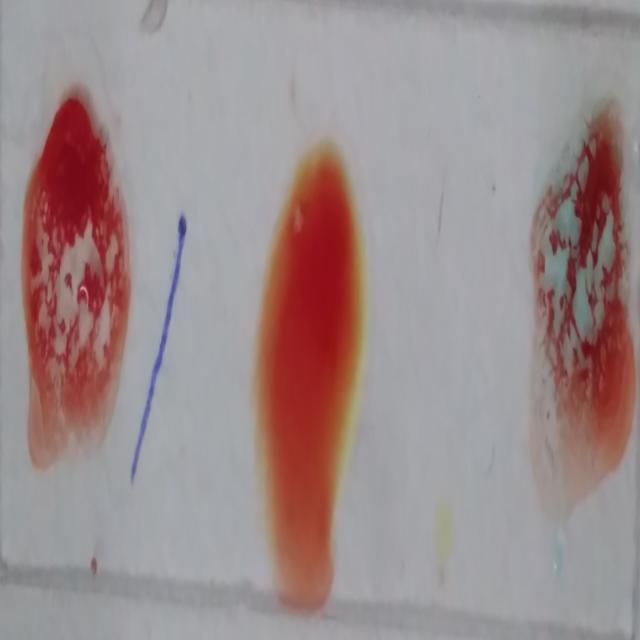A: (536, 95, 632, 479)
D: (22, 98, 124, 470)
